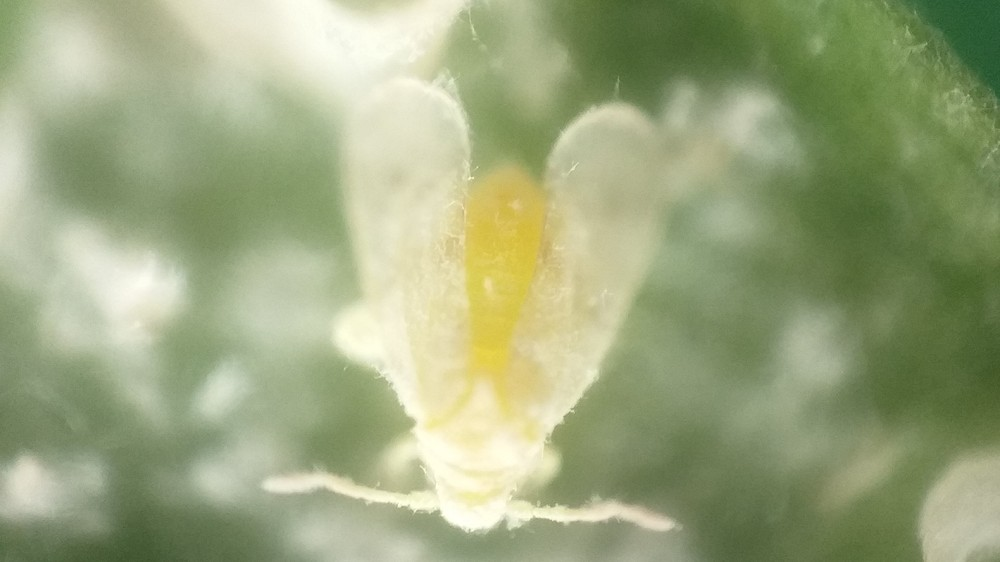Mosca Blanca: (244, 70, 713, 548)
